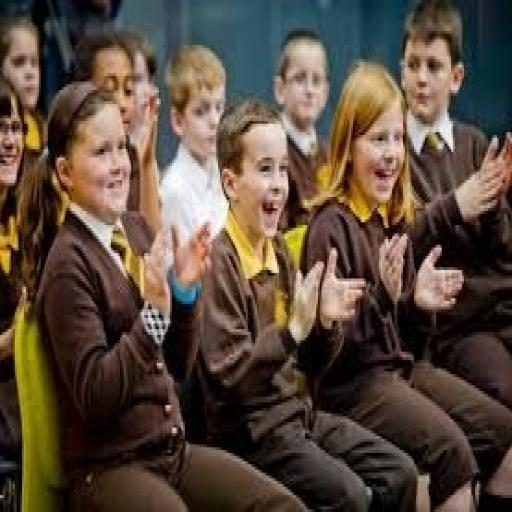clapping: (0, 3, 510, 509), (33, 82, 309, 509)
